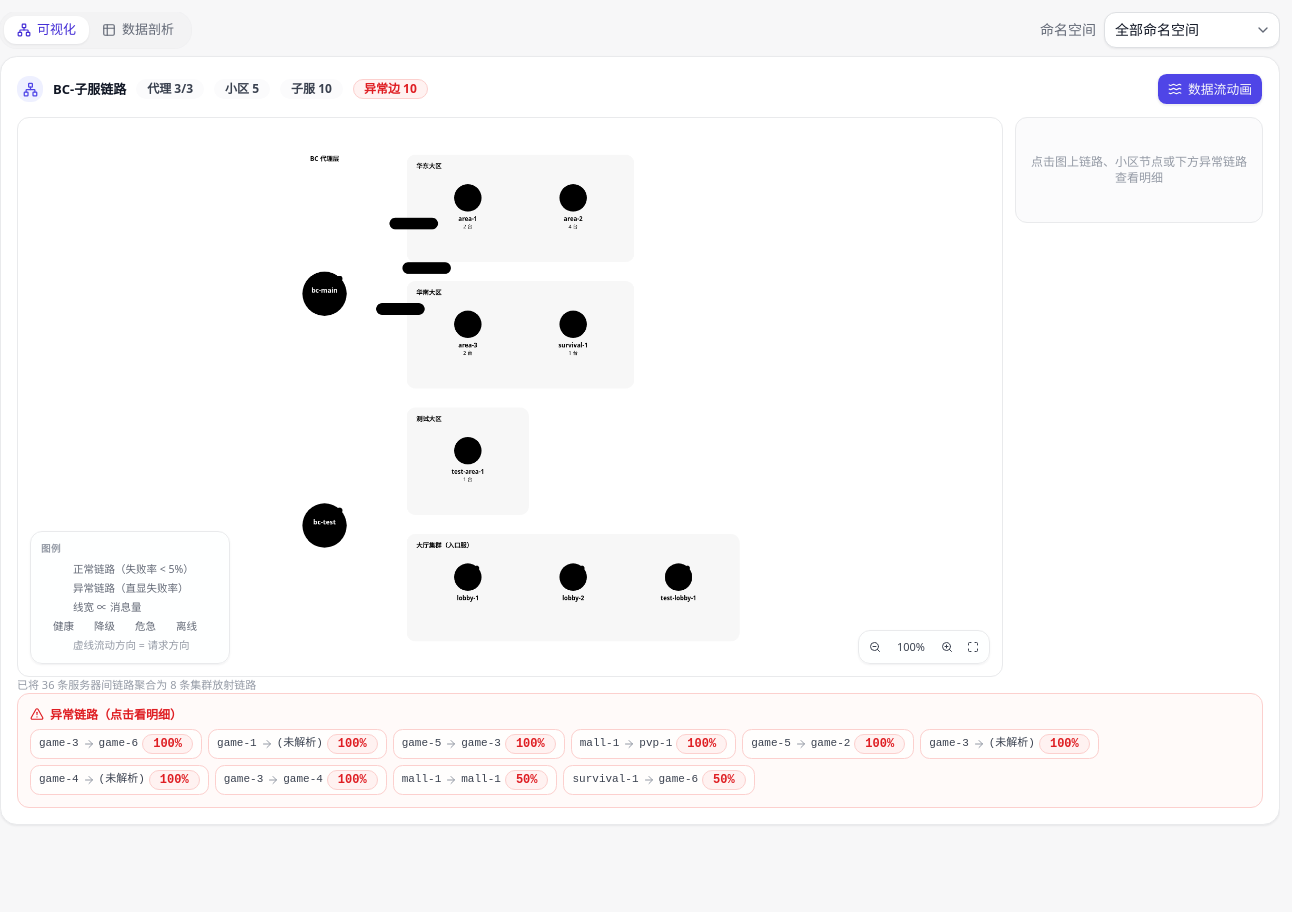
Test: /topology 拓扑页 › 放大后百分比变化，点适应视图重置回初始倍率
expect the text "area-1" is shown: met, box [458,215,477,223]
Click the button named "放大": (947,647) [935,635,959,659]
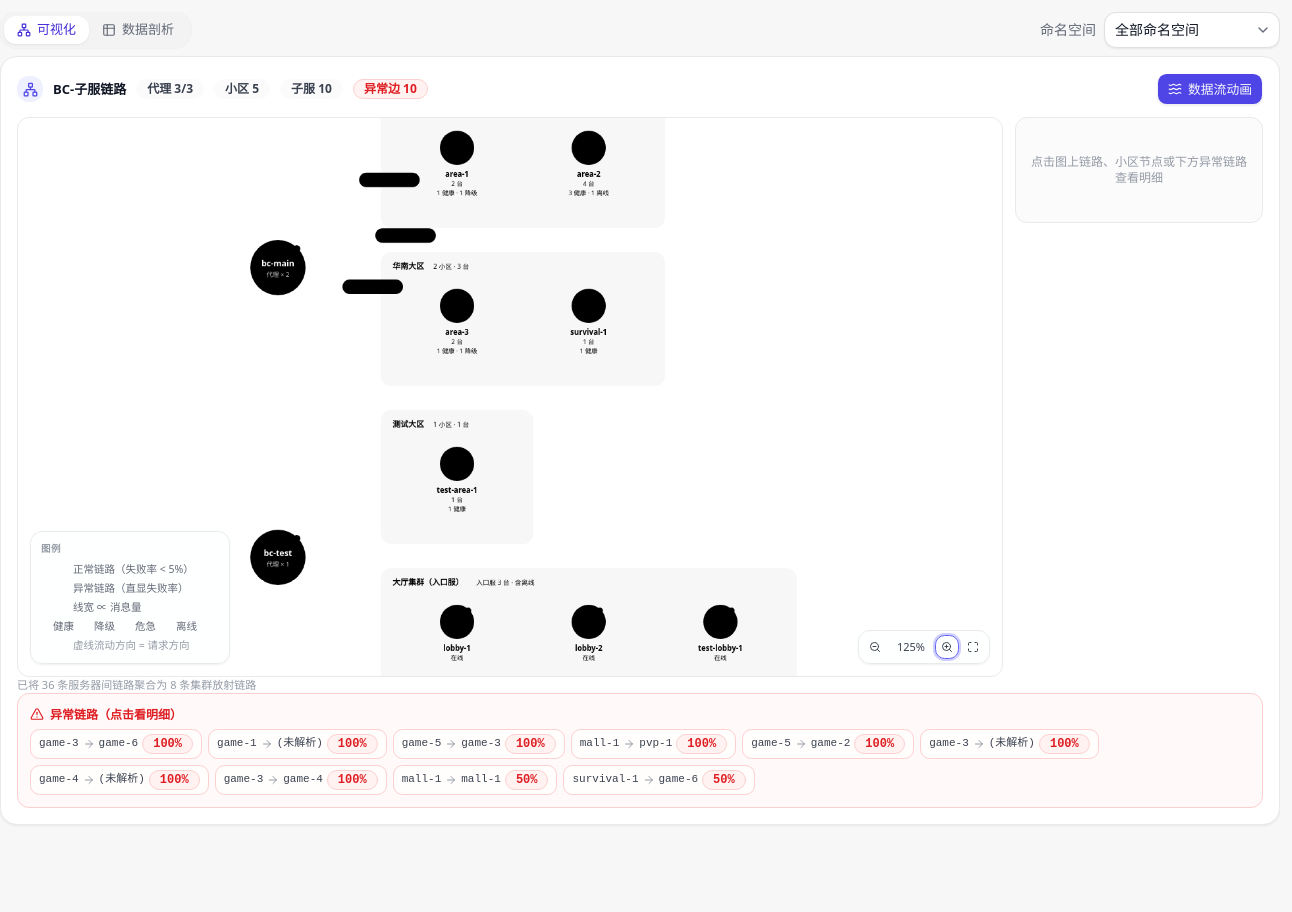
expect the text "125%" is shown: met, box [897,639,925,654]
Click the button named "适应视图": (973,647) [961,635,985,659]
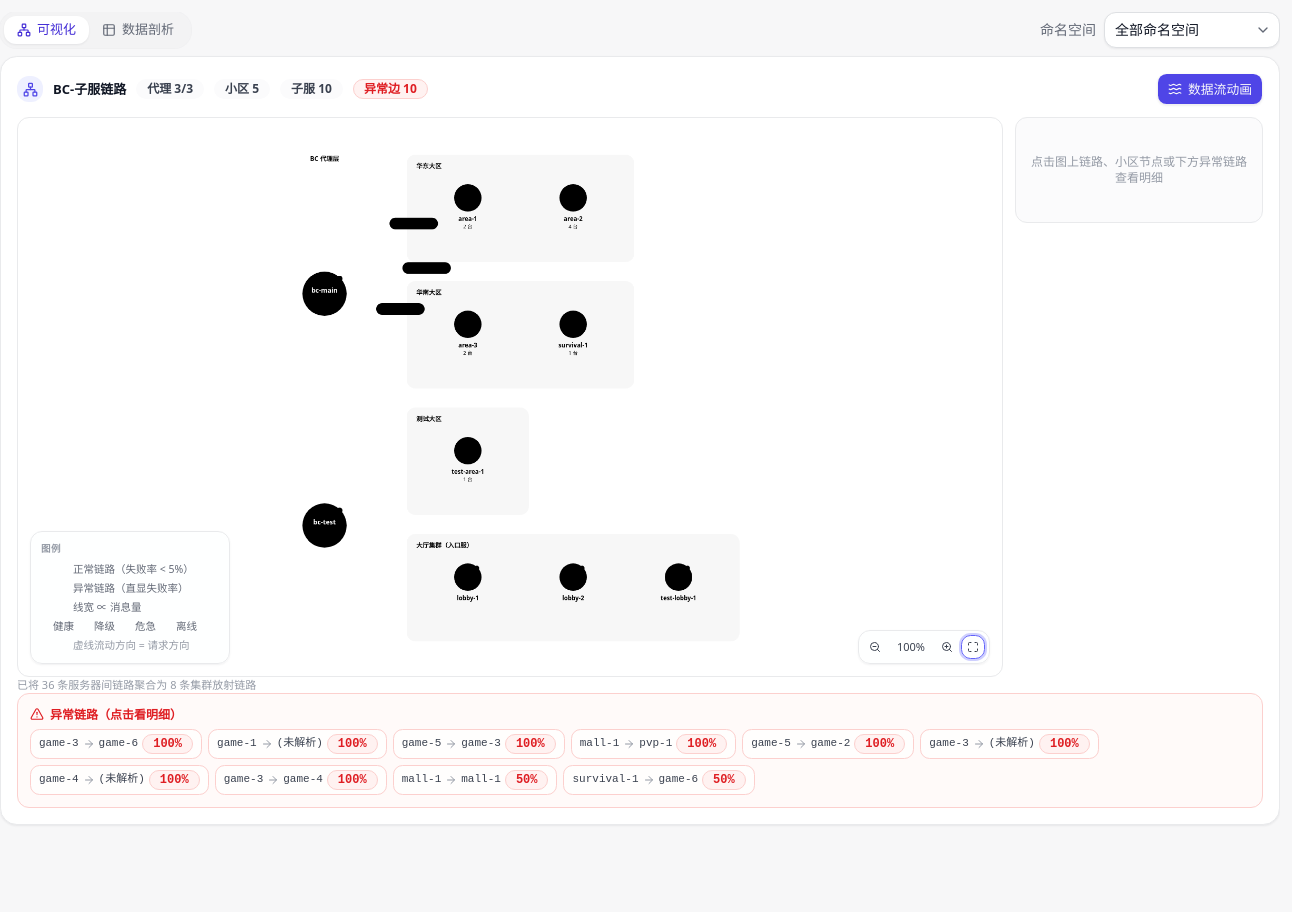
expect the text "100%" is shown: met, box [897,639,925,654]
